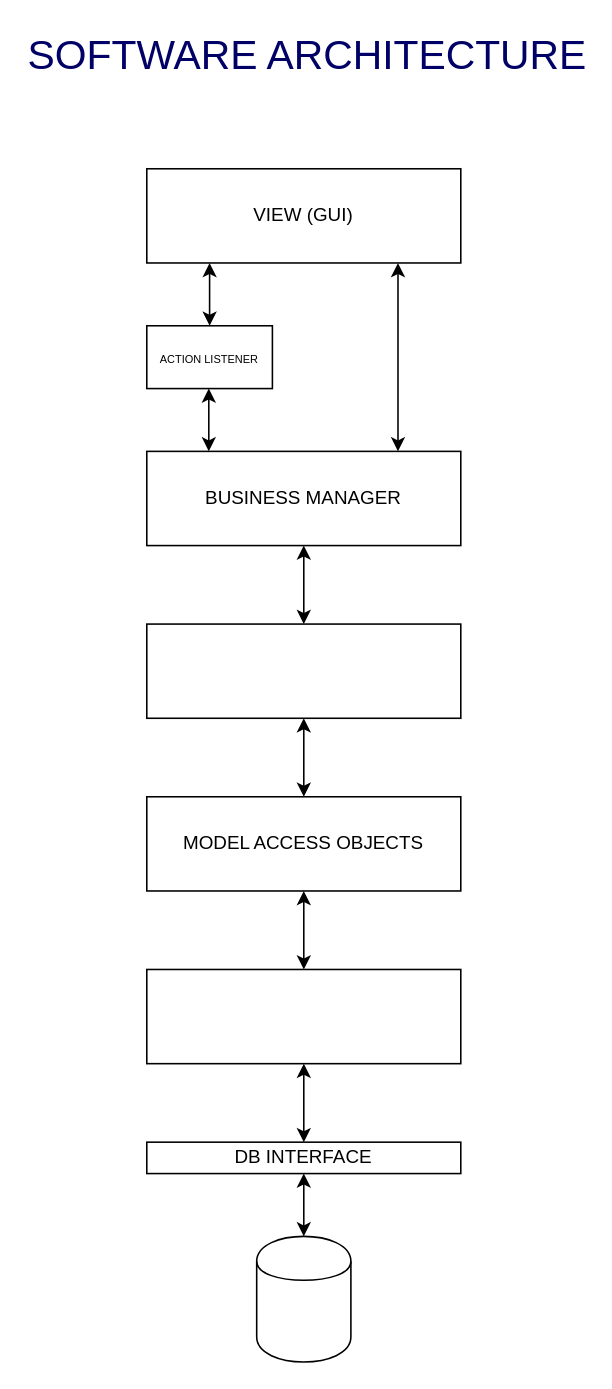
Image size: 612x1389. Some labels were removed from this diagram. The centre of each missing label's shape, as x and y in pixels:
DATA ACCESS OBJECTS: [303,1016]
DB: [303,1298]
MODEL: [303,670]
